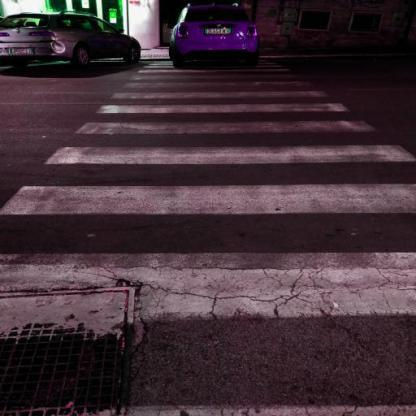crosswalk: (0, 175, 415, 338), (68, 100, 385, 140)
